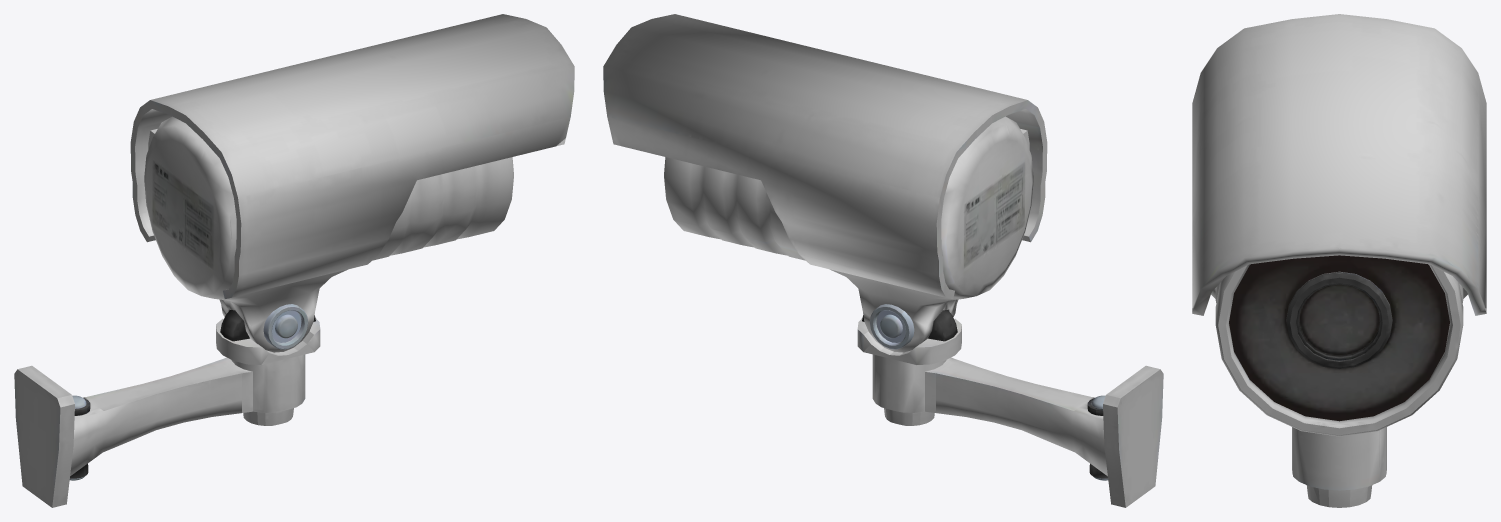
The model's file is security_cam.glb.
3 views of the same model, side by side, from view 1: azimuth 30°, elevation 25°; view 2: azimuth 150°, elevation 25°; view 3: azimuth 270°, elevation 25° (orthographic). The views are drawn at different scales.
Visible parts, largest first — view 1: security_cam; view 2: security_cam; view 3: security_cam.
Boxes of the visible parts, x1=… form: security_cam: x1=14, y1=14, x2=574, y2=507; security_cam: x1=603, y1=14, x2=1163, y2=507; security_cam: x1=1192, y1=14, x2=1486, y2=507.
Size of the model in its own units: 0.38 by 0.2463 by 0.1429.
2 materials, 2 textured.
